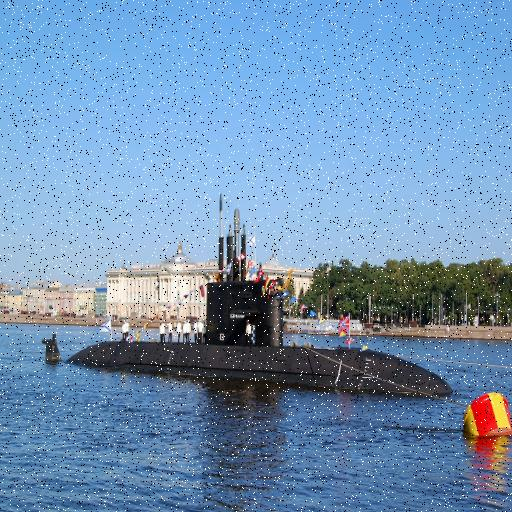submarine: (40, 282, 455, 399)
